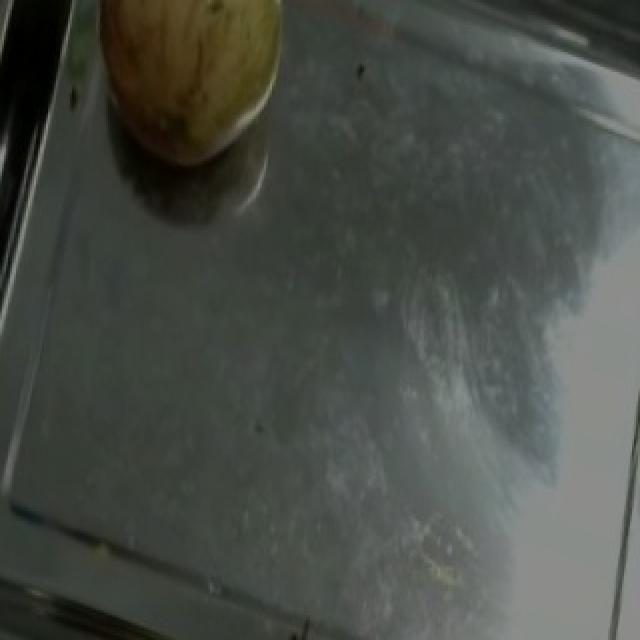fruit: (72, 0, 326, 193)
